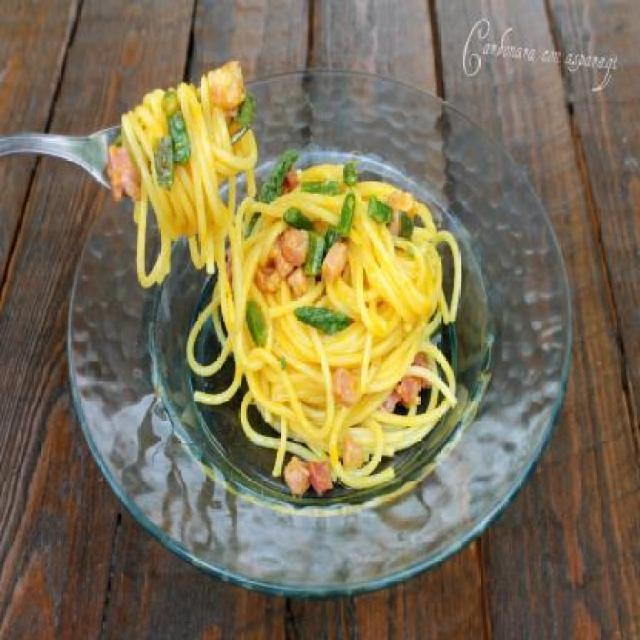Pasta with carbonara sauce: (76, 90, 515, 548)
